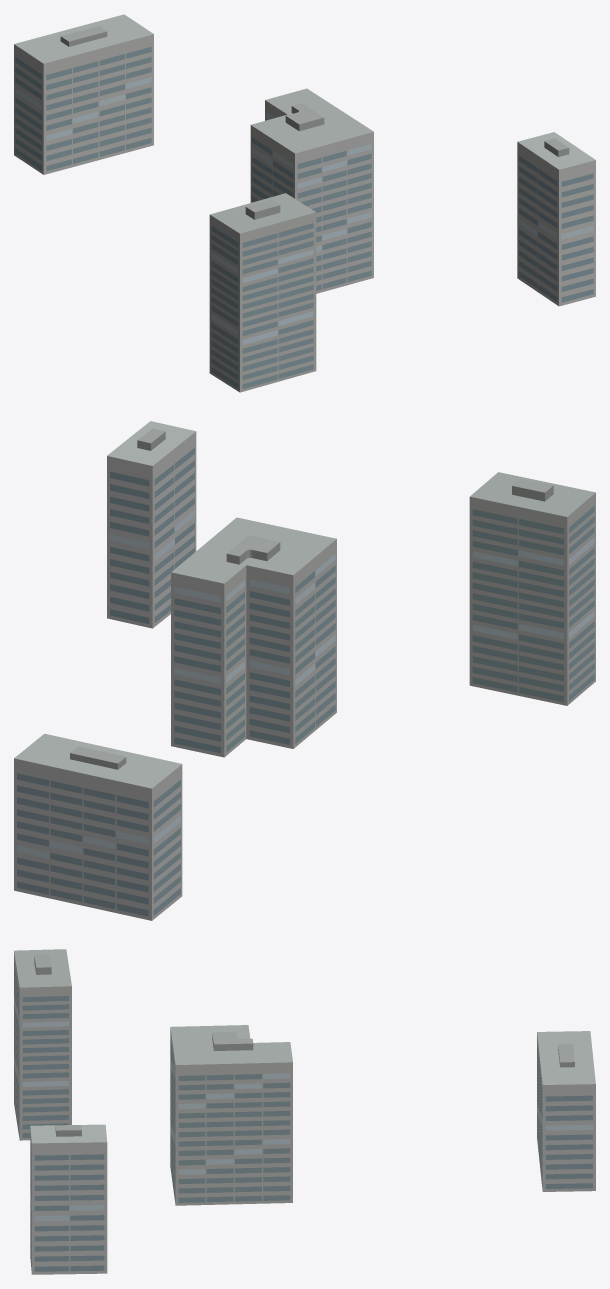
File: apt-a10024327.glb
3 renders of one model, top to bottom at view 1: azimuth 30°, elevation 25°; view 2: azimuth 150°, elevation 25°; view 3: azimuth 270°, elevation 25°, orthographic. The views are drawn at different scales.
Visible parts, largest first — view 1: apt-a10024327; view 2: apt-a10024327; view 3: apt-a10024327.
Boxes of the visible parts, <box> form: apt-a10024327: <box>14,14,595,392</box>; apt-a10024327: <box>14,421,595,920</box>; apt-a10024327: <box>14,949,595,1274</box>.
Bounding box in the file's own units: 116 × 50 × 165.
